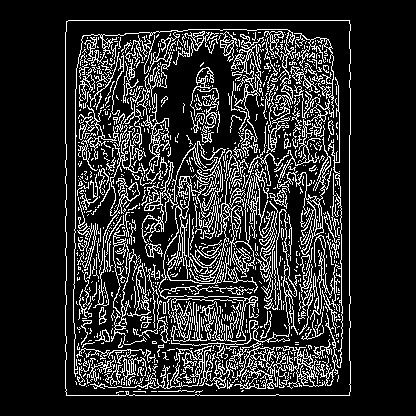buddha-sitting: (100, 199, 212, 300)
